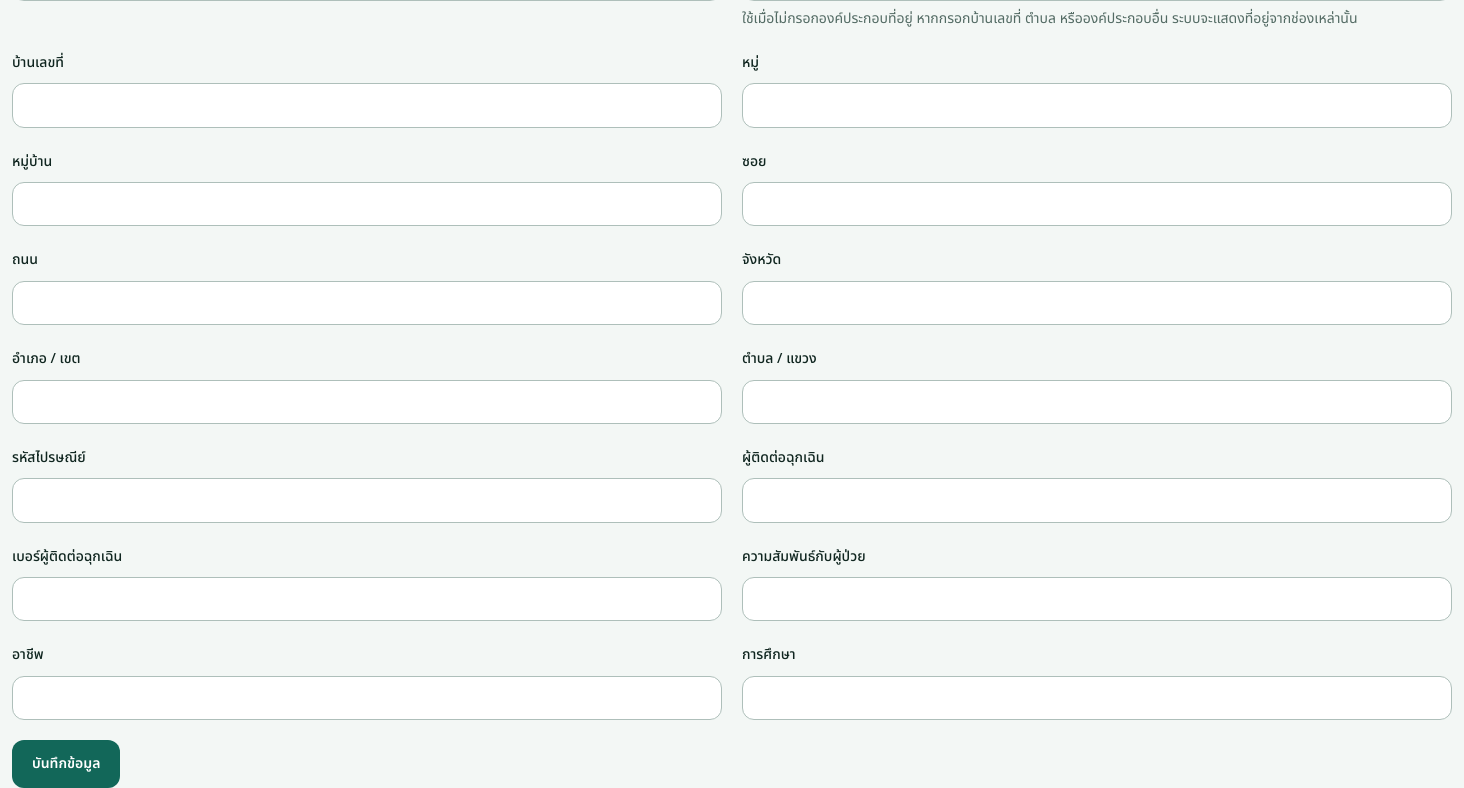
Test: Hospital patient profile edit › blocks another save when the save outcome cannot be confirmed
This screenshot has width=1464, height=788.
(page scrolled)
Click the button "บันทึกข้อมูล" at (66, 764), box [12,740,120,787]
(page scrolled)
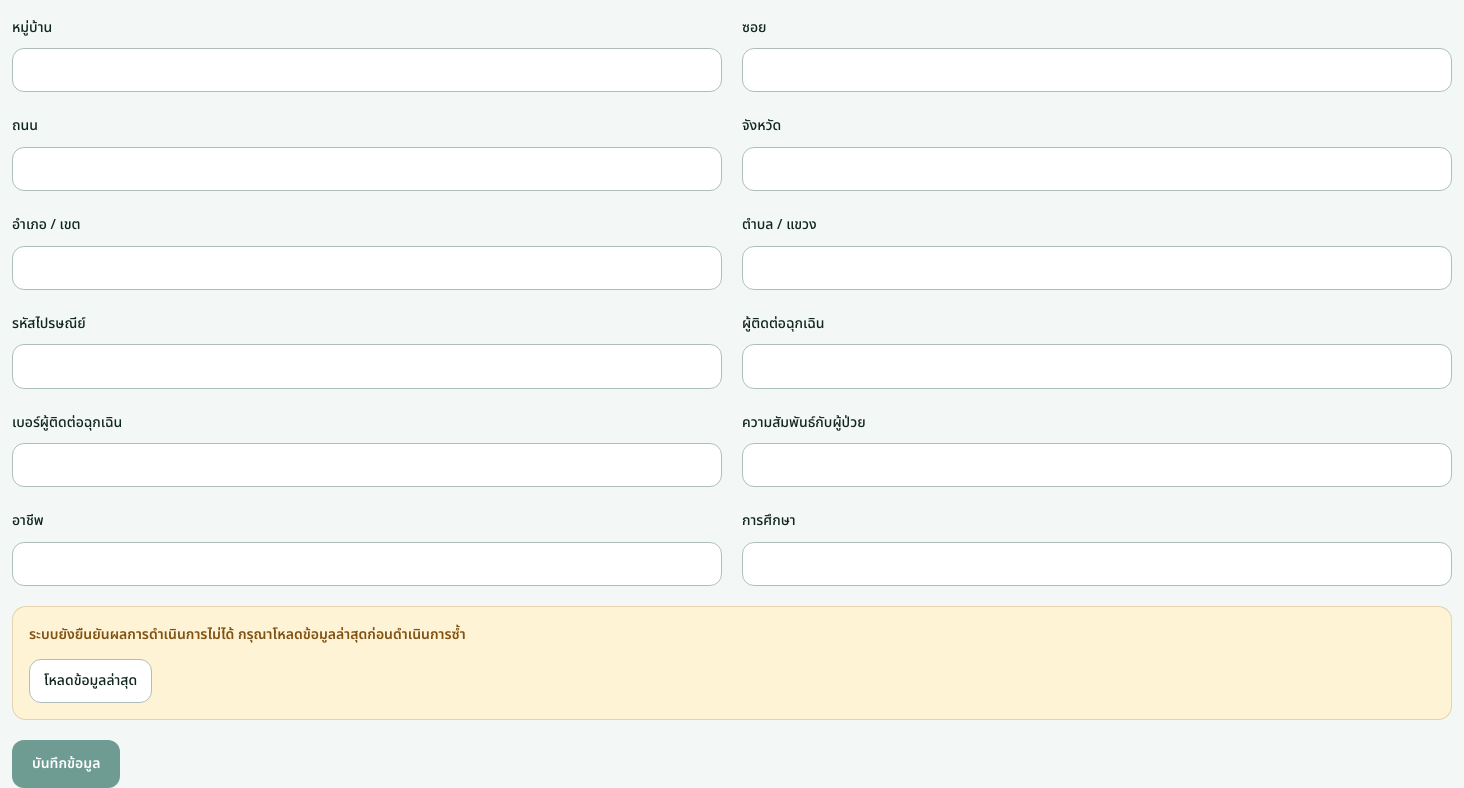
Now the text "ระบบยังยืนยันผลการดำเนินการไม่ได้" is shown, box [29,624,466,645]
Now the button "บันทึกข้อมูล" is disabled, box [12,740,120,787]
